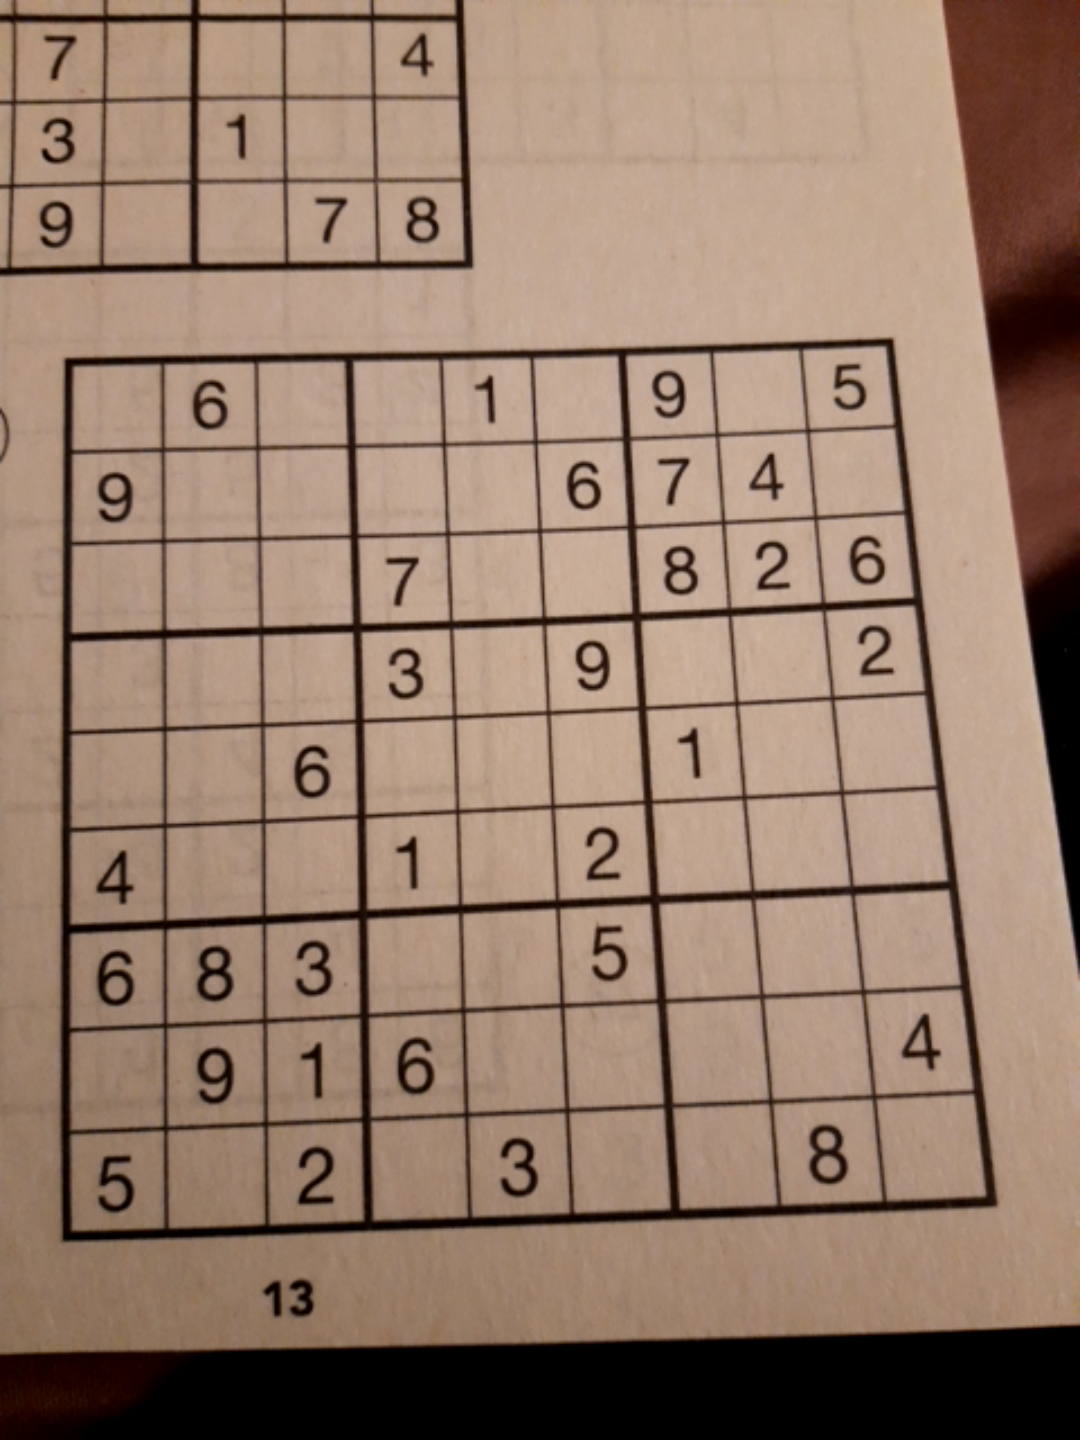sudoku: (54, 337, 1003, 1241)
